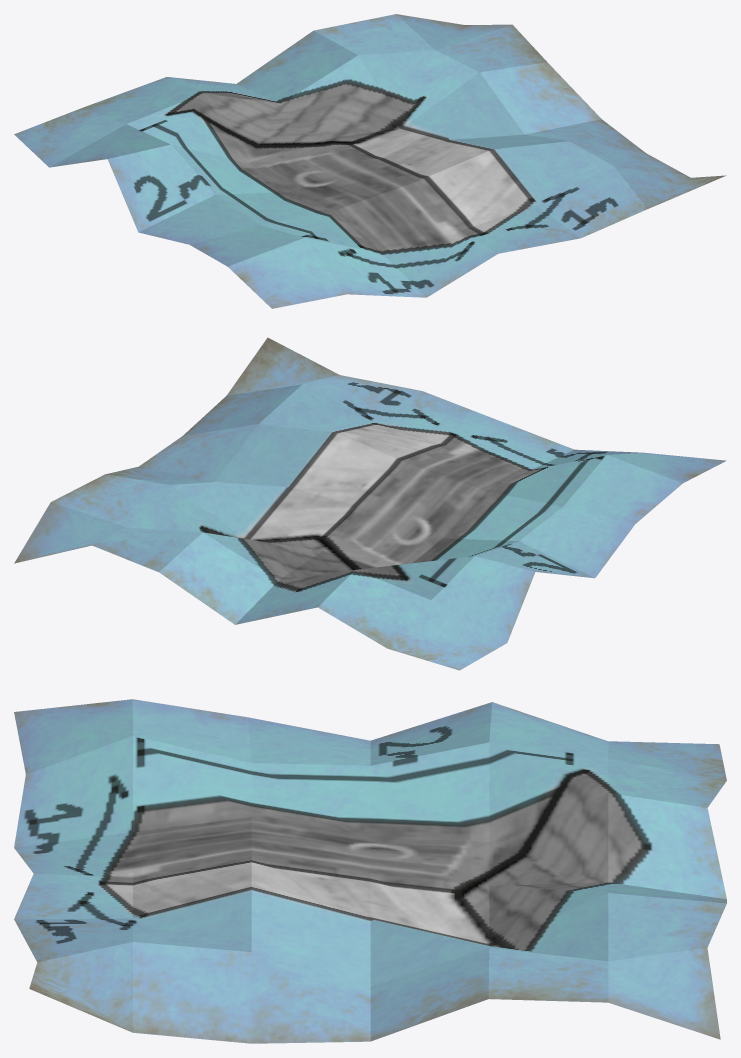
File: paper3.gltf
3 renders of one model, top to bottom at view 1: azimuth 30°, elevation 25°; view 2: azimuth 150°, elevation 25°; view 3: azimuth 270°, elevation 25°, orthographic. The views are drawn at different scales.
Visible parts, largest first — view 1: Plane; view 2: Plane; view 3: Plane.
Part boxes in pixels (<box>): Plane: <box>14,14,726,308</box>; Plane: <box>14,337,726,670</box>; Plane: <box>14,699,726,1043</box>.
Bounding box in the file's own units: 0.2783 × 0.0271 × 0.2783.
1 material, 1 textured.
